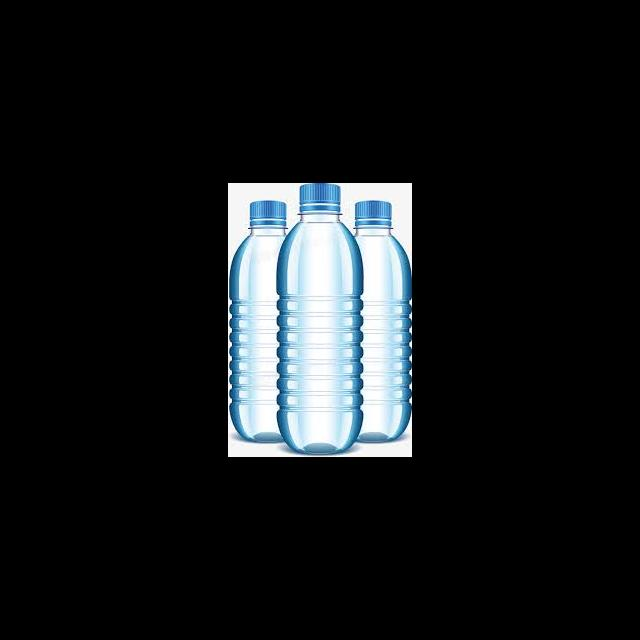plastic: (275, 183, 362, 454), (228, 200, 289, 439), (351, 199, 410, 442), (297, 183, 339, 211), (249, 200, 286, 227), (353, 200, 391, 226)
